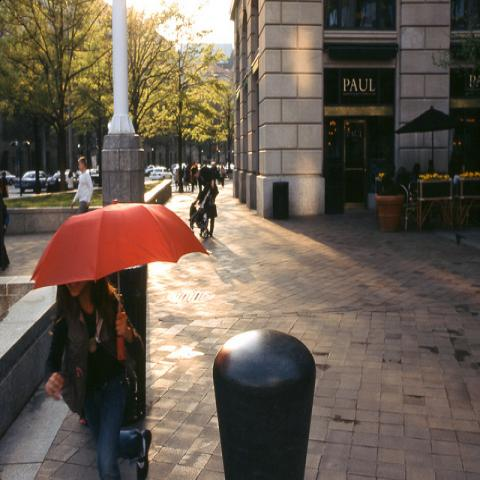car: (20, 170, 37, 196), (46, 169, 62, 192), (64, 168, 79, 190), (149, 166, 172, 180), (0, 171, 16, 186), (90, 169, 100, 185), (39, 171, 47, 188), (169, 163, 180, 175), (144, 166, 154, 176), (181, 163, 187, 170)
